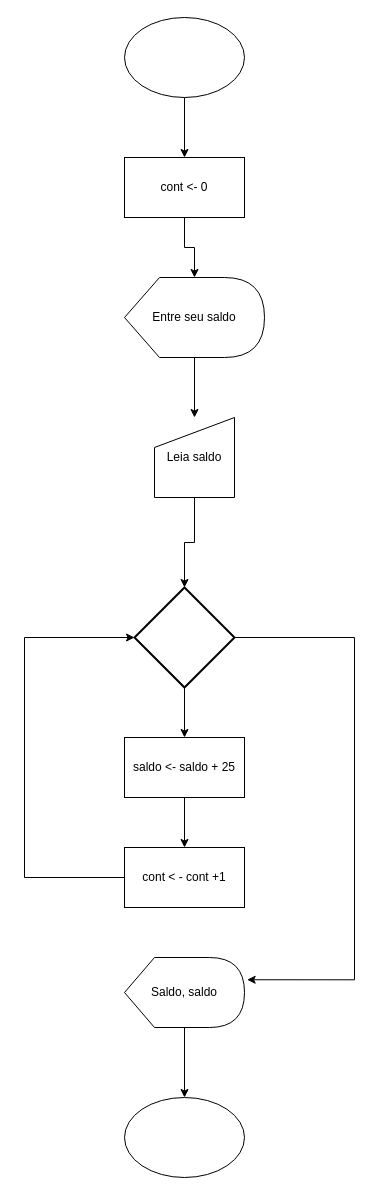
Image size: 380x1195. Some labels were removed from this diagram. The centre of each missing label's shape, as x and y in pixels:
"cont < 5" belongs at (184,637).
"FIM" belongs at (184,1137).
"INICIO" belongs at (184,57).
